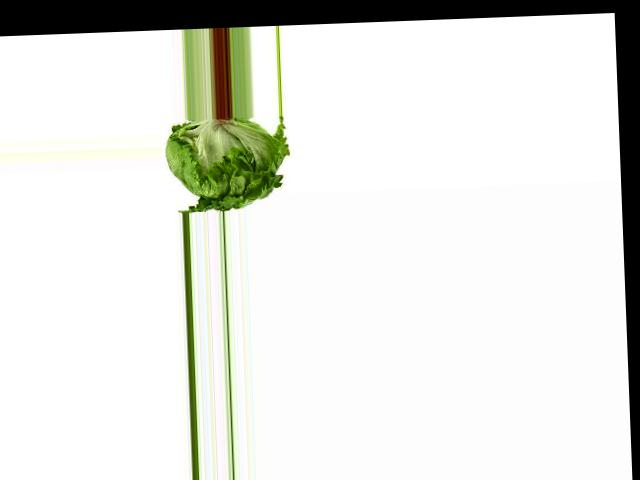lettuce: (160, 115, 296, 212)
